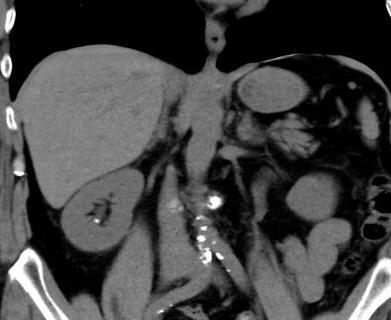Tas_Var: (92, 216, 101, 226)
